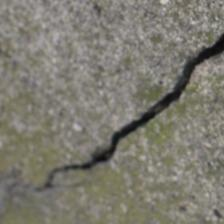Crack: (18, 20, 204, 173)
